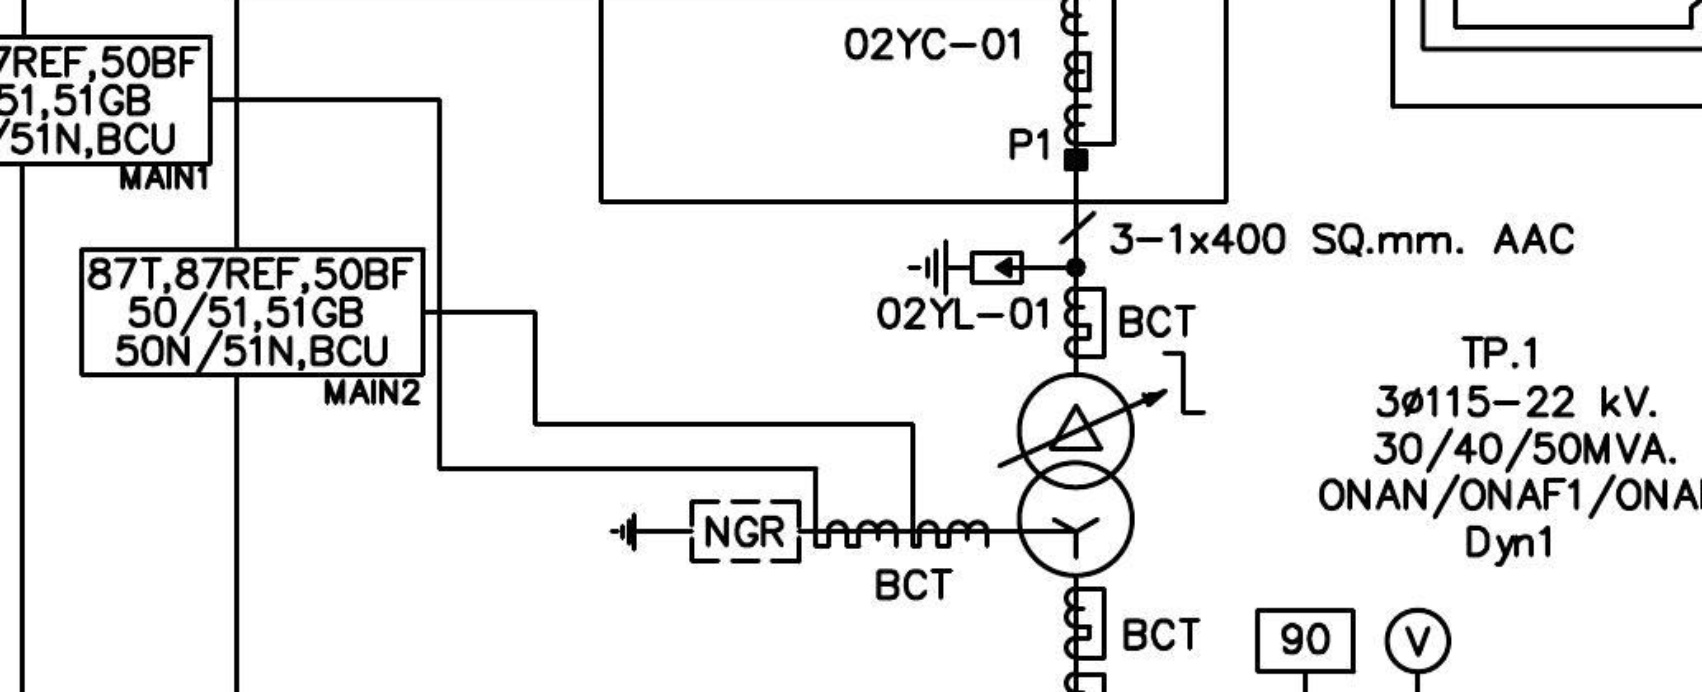11522_tx_dyn1: (1016, 371, 1136, 580)
115_la: (905, 237, 1026, 298)
NGR_future: (608, 498, 802, 565)
v_m: (1382, 606, 1453, 675)
